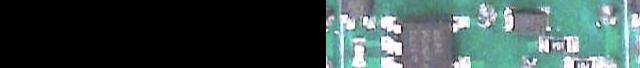chip-capacitor: (354, 40, 366, 66)
chip-resistor: (541, 36, 579, 53), (564, 56, 603, 68)
diode: (504, 7, 552, 32)
ic: (380, 13, 471, 68)
